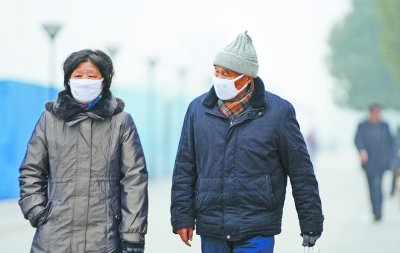mask: (72, 60, 100, 101), (213, 66, 242, 103)
